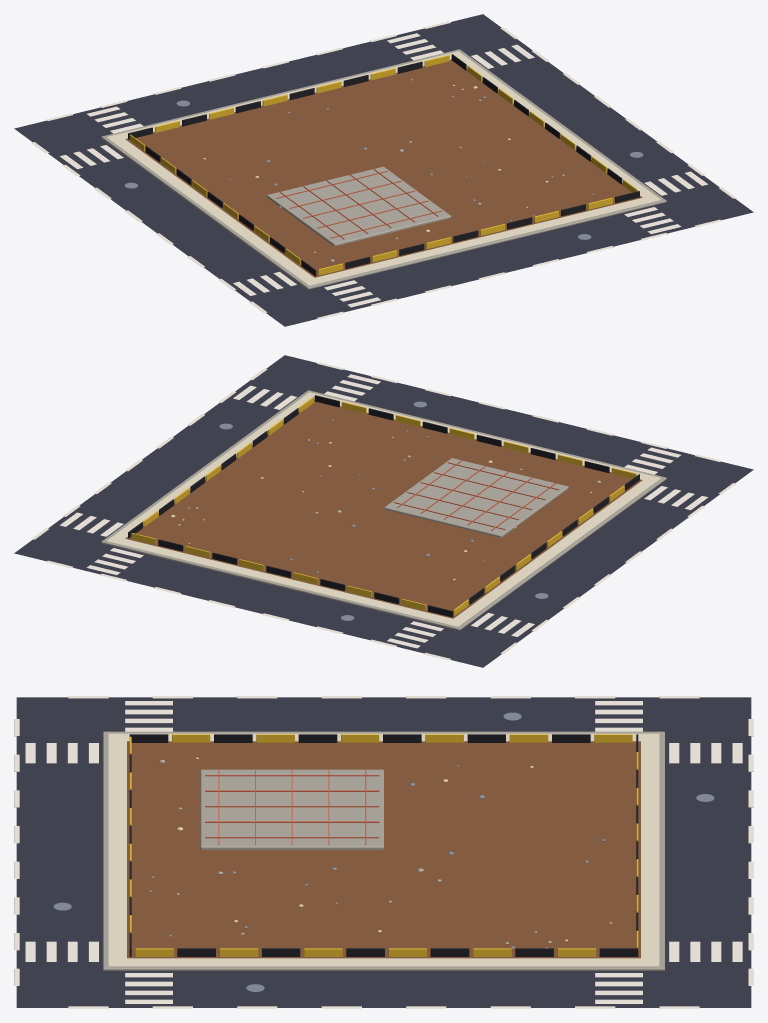
Rendered from tile_construction.glb.
3 views of the same model, one above another, from view 1: azimuth 30°, elevation 25°; view 2: azimuth 150°, elevation 25°; view 3: azimuth 270°, elevation 25° (orthographic). The views are drawn at different scales.
Visible parts, largest first — view 1: tile_construction; view 2: tile_construction; view 3: tile_construction.
Part boxes in pixels (box(x1,y1,x2,y2)): tile_construction: box(14, 14, 753, 326); tile_construction: box(14, 355, 753, 667); tile_construction: box(14, 696, 753, 1008).
Bounding box in the file's own units: 40.3 × 0.67 × 40.3.
Materials: 1 (1 with a texture image).
